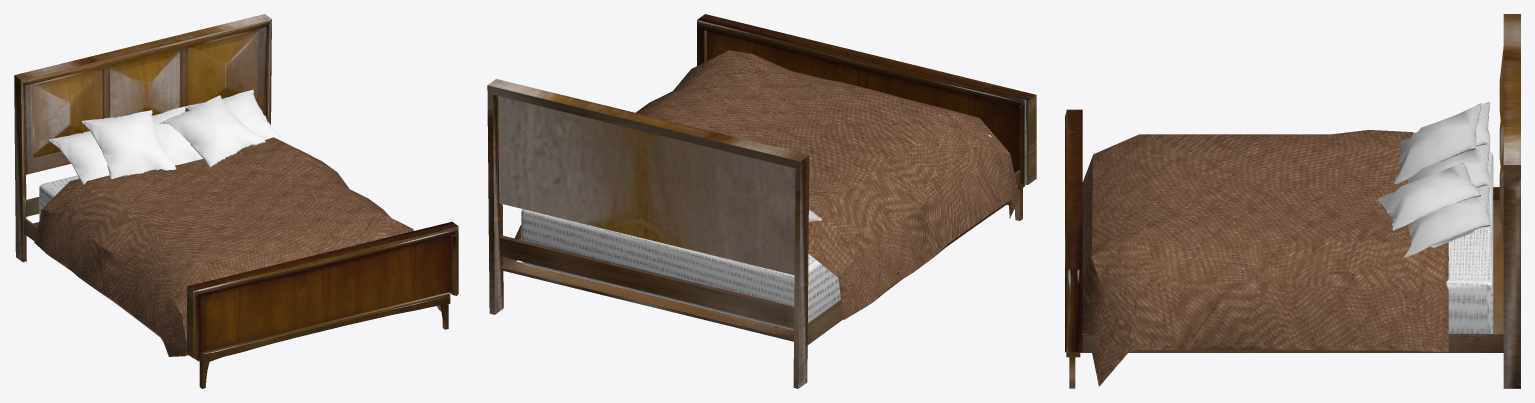
The model's file is Bed_frame_Nico_Perry.fbx.
3 views of the same model, side by side, from view 1: azimuth 30°, elevation 25°; view 2: azimuth 150°, elevation 25°; view 3: azimuth 270°, elevation 25° (orthographic). The views are drawn at different scales.
Parts seen in each view (by area): view 1: Blanket, Frame11, Frame9, Frame12, Frame10, Pillows1_2, Pillows1_3, Frame8, Pillows1_2_2, Pillows1_1, Pillows1, Mattress; view 2: Blanket, Frame11, Frame12, Mattress, Frame10, Frame9, Frame3, Frame5; view 3: Blanket, Frame12, Mattress, Frame10, Pillows1_3, Pillows1_2, Pillows1_1, Frame4, Pillows1, Frame3, Frame11, Pillows1_2_2.
Boxes of the visible parts, left/top/right/bottom form: Blanket: left=34, top=137, right=441, bottom=356; Frame11: left=25, top=27, right=266, bottom=216; Frame9: left=200, top=235, right=451, bottom=352; Frame12: left=14, top=14, right=271, bottom=262; Frame10: left=187, top=221, right=458, bottom=358; Pillows1_2: left=81, top=110, right=176, bottom=178; Pillows1_3: left=160, top=95, right=265, bottom=167; Frame8: left=198, top=292, right=450, bottom=363; Pillows1_2_2: left=48, top=131, right=109, bottom=184; Pillows1_1: left=185, top=90, right=284, bottom=142; Pillows1: left=152, top=106, right=202, bottom=165; Mattress: left=39, top=175, right=79, bottom=220; Blanket: left=514, top=50, right=1020, bottom=319; Frame11: left=498, top=96, right=795, bottom=327; Frame12: left=487, top=79, right=809, bottom=388; Mattress: left=521, top=134, right=991, bottom=329; Frame10: left=697, top=14, right=1036, bottom=184; Frame9: left=707, top=31, right=1019, bottom=172; Frame3: left=500, top=259, right=793, bottom=341; Frame5: left=807, top=169, right=1024, bottom=344; Blanket: left=1082, top=130, right=1448, bottom=386; Frame12: left=1503, top=14, right=1520, bottom=388; Mattress: left=1446, top=151, right=1493, bottom=333; Frame10: left=1065, top=109, right=1082, bottom=352; Pillows1_3: left=1377, top=162, right=1480, bottom=230; Pillows1_2: left=1394, top=103, right=1482, bottom=183; Pillows1_1: left=1404, top=184, right=1490, bottom=257; Frame4: left=1080, top=334, right=1503, bottom=352; Pillows1: left=1408, top=142, right=1490, bottom=187; Frame3: left=1493, top=200, right=1503, bottom=333; Frame11: left=1499, top=47, right=1503, bottom=241; Pillows1_2_2: left=1412, top=101, right=1490, bottom=152.
Bounding box in the file's own units: 896 × 570 × 1046.
Materials: 15 (15 with a texture image).
